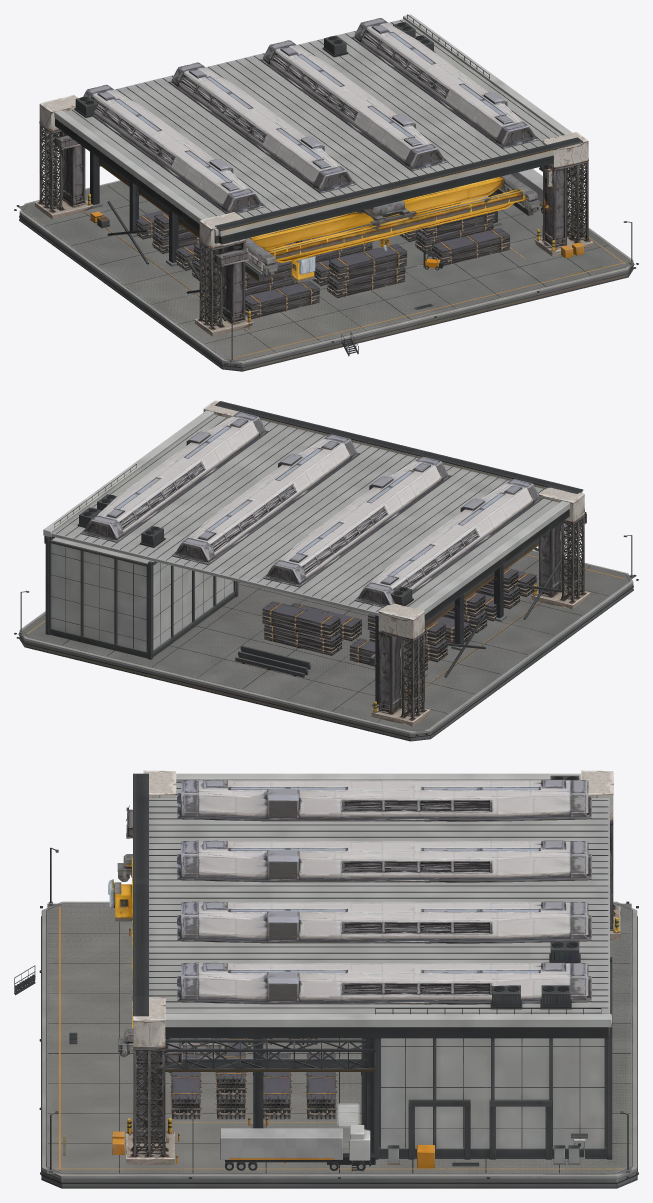
Rendered from steel_depot.lite.glb.
The picture shows the model from 3 angles, top to bottom: view 1: azimuth 30°, elevation 25°; view 2: azimuth 150°, elevation 25°; view 3: azimuth 270°, elevation 25°; orthographic projection. The views are drawn at different scales.
Parts seen in each view (by area): view 1: hull, parts_colony-roofMonitor, parts_colony-portalColumn, parts_colony-beamStack, parts_colony-overheadCrane, parts_yard-truck; view 2: hull, parts_colony-roofMonitor, parts_colony-portalColumn, parts_colony-beamStack; view 3: hull, parts_colony-roofMonitor, parts_colony-portalColumn, parts_colony-beamStack, parts_yard-truck, parts_colony-overheadCrane, parts_container.
Boxes of the visible parts, x1,y1,x2,y2 form: hull: [14, 14, 638, 371]; parts_colony-roofMonitor: [83, 18, 539, 213]; parts_colony-portalColumn: [35, 95, 593, 336]; parts_colony-beamStack: [136, 202, 510, 319]; parts_colony-overheadCrane: [245, 174, 540, 282]; parts_yard-truck: [511, 169, 542, 213]; hull: [14, 401, 638, 741]; parts_colony-roofMonitor: [80, 412, 542, 607]; parts_colony-portalColumn: [203, 400, 590, 726]; parts_colony-beamStack: [238, 568, 536, 674]; hull: [14, 773, 638, 1188]; parts_colony-roofMonitor: [177, 779, 591, 1004]; parts_colony-portalColumn: [126, 770, 620, 1164]; parts_colony-beamStack: [170, 1038, 337, 1119]; parts_yard-truck: [220, 1125, 375, 1170]; parts_colony-overheadCrane: [108, 854, 228, 1057]; parts_container: [337, 1103, 359, 1147].
Size of the model in its own units: 72.42 by 21.53 by 69.28.
Materials: 9 (9 with a texture image).
